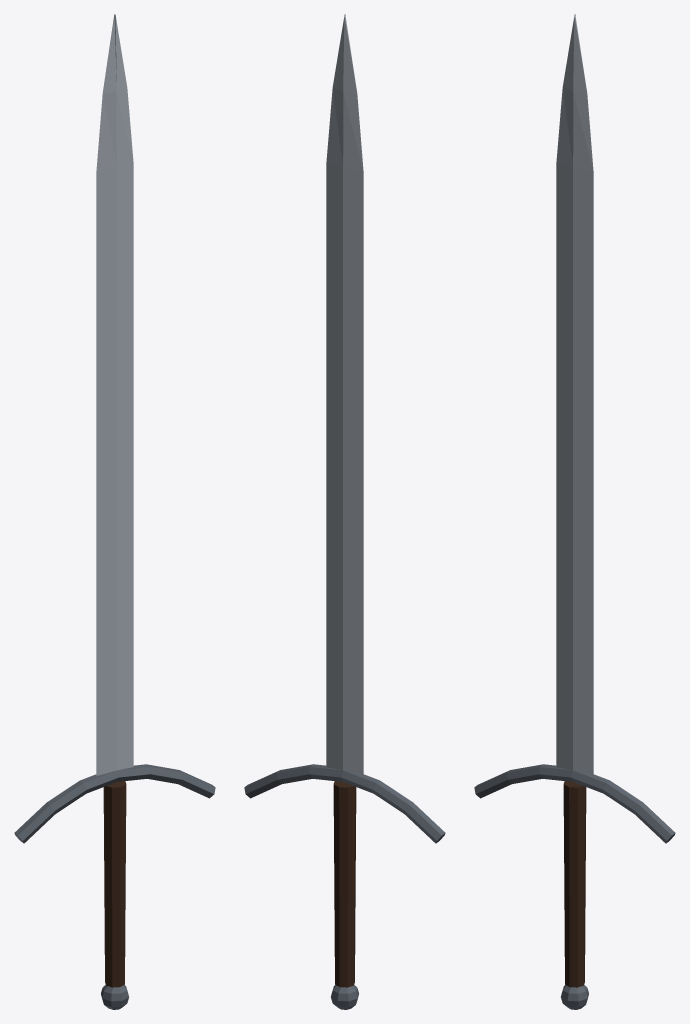
The model's file is g-greatsword-claymore.glb.
3 views of the same model, side by side, from view 1: azimuth 30°, elevation 25°; view 2: azimuth 150°, elevation 25°; view 3: azimuth 330°, elevation 25° (orthographic).
Visible parts, largest first — view 1: g-greatsword-claymore; view 2: g-greatsword-claymore; view 3: g-greatsword-claymore.
Part boxes in pixels (x1,y1,x2,y2): g-greatsword-claymore: (14,14,215,1009); g-greatsword-claymore: (244,14,445,1009); g-greatsword-claymore: (474,14,675,1009).
Size of the model in its own units: 0.3096 by 1.49 by 0.04.
